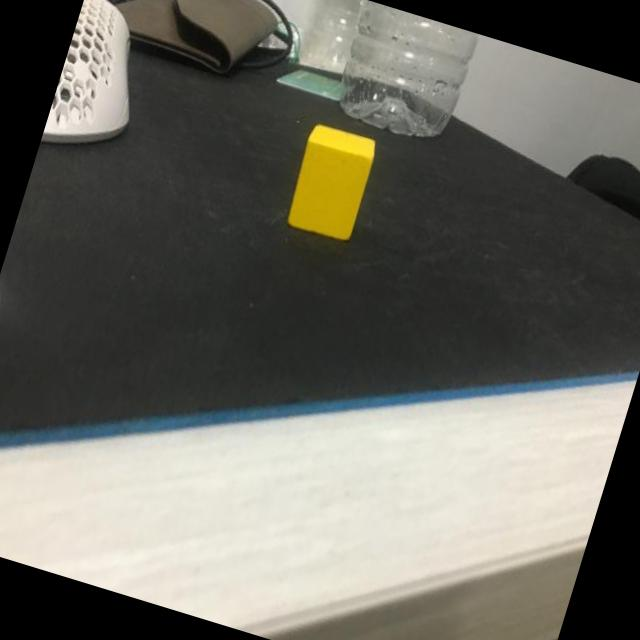yellow: (283, 122, 379, 242)
